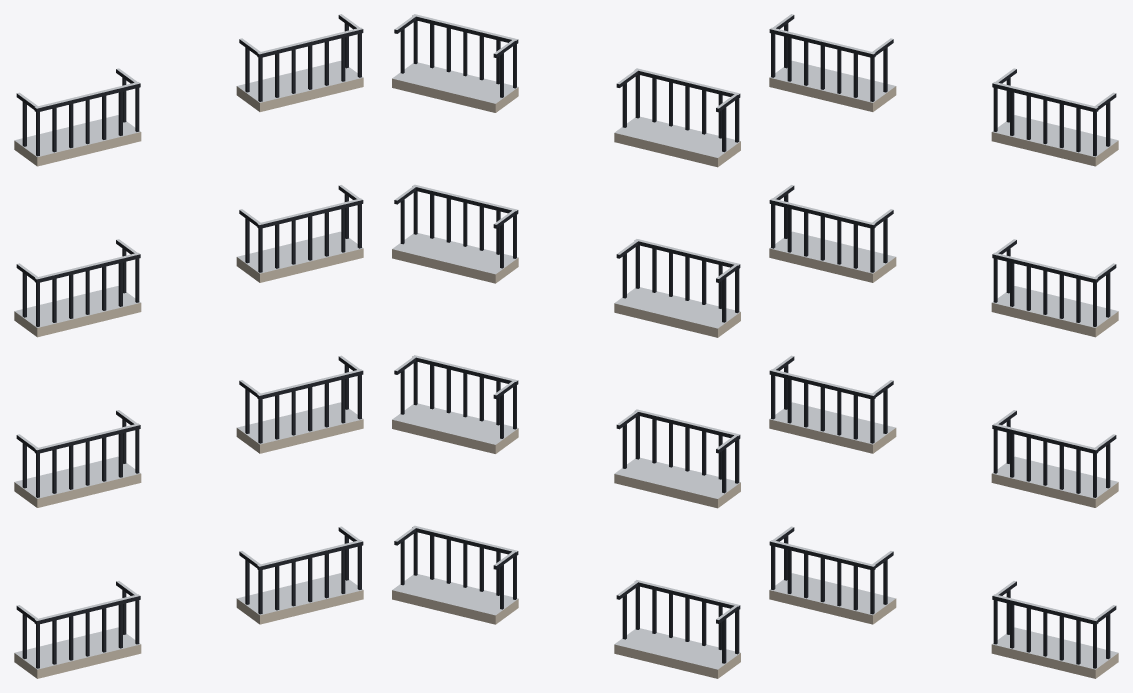
Rendered from Apartment_Balconies.glb.
3 views of the same model, side by side, from view 1: azimuth 30°, elevation 25°; view 2: azimuth 150°, elevation 25°; view 3: azimuth 330°, elevation 25° (orthographic).
Visible parts, largest first — view 1: Apartment_Balconies; view 2: Apartment_Balconies; view 3: Apartment_Balconies.
Boxes of the visible parts, x1=… form: Apartment_Balconies: x1=14, y1=14, x2=363, y2=678; Apartment_Balconies: x1=392, y1=14, x2=740, y2=678; Apartment_Balconies: x1=769, y1=14, x2=1118, y2=678.
Bounding box in the file's own units: 22 × 36.7 × 2.7.
